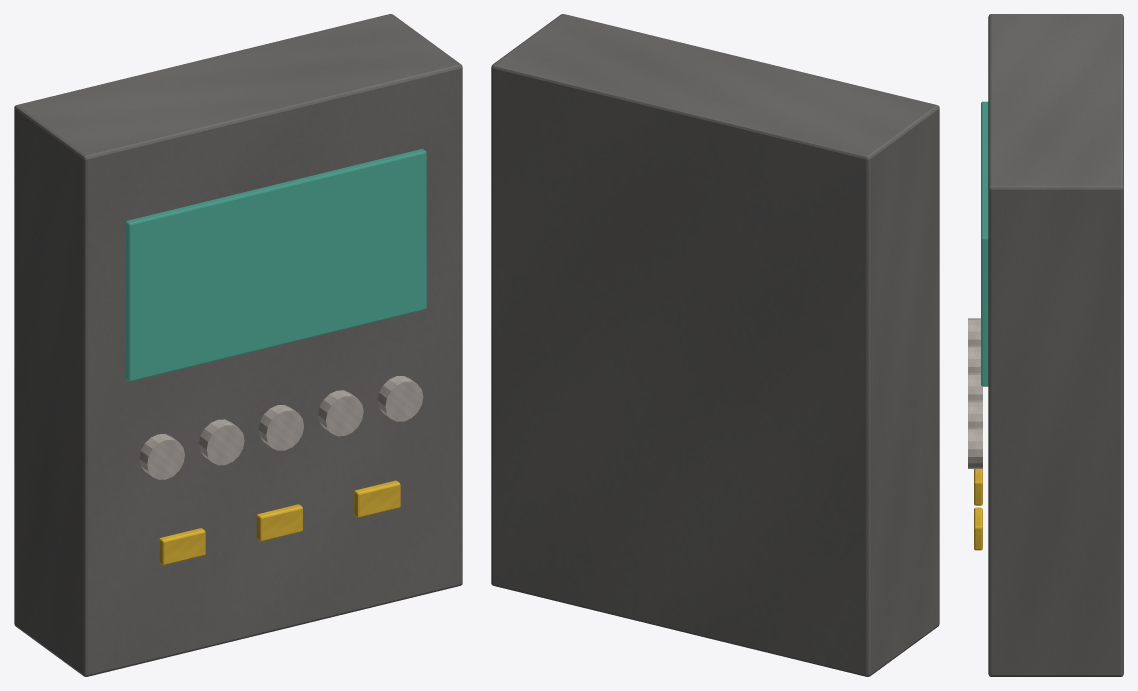
Rendered from instrument_panel.glb.
3 renders of one model, left to right at view 1: azimuth 30°, elevation 25°; view 2: azimuth 150°, elevation 25°; view 3: azimuth 270°, elevation 25°, orthographic. The views are drawn at different scales.
Parts seen in each view (by area): view 1: panel, screen.002, dial.001, dial.003, dial, dial.004, dial.002, switch.001, switch, switch.002; view 2: panel; view 3: panel, screen.002, dial.004, dial.003, dial.002, switch.002, dial, dial.001, switch.001.
Part boxes in pixels (x1,y1,x2,y2): panel: (14, 14, 462, 676); screen.002: (125, 149, 426, 381); dial.001: (199, 419, 244, 465); dial.003: (318, 390, 363, 436); dial: (139, 434, 184, 479); dial.004: (377, 376, 423, 421); dial.002: (258, 405, 303, 450); switch.001: (256, 504, 302, 541); switch: (159, 528, 205, 565); switch.002: (354, 480, 400, 517); panel: (491, 14, 939, 676); panel: (988, 14, 1123, 676); screen.002: (981, 101, 988, 386); dial.004: (968, 427, 982, 468); dial.003: (968, 400, 982, 427); dial.002: (968, 373, 982, 400); switch.002: (974, 507, 982, 550); dial: (968, 318, 980, 345); dial.001: (968, 345, 980, 372); switch.001: (974, 469, 982, 505).
Bounding box in the file's own units: 0.7 × 0.92 × 0.2645.
Materials: 4 (3 with a texture image).
